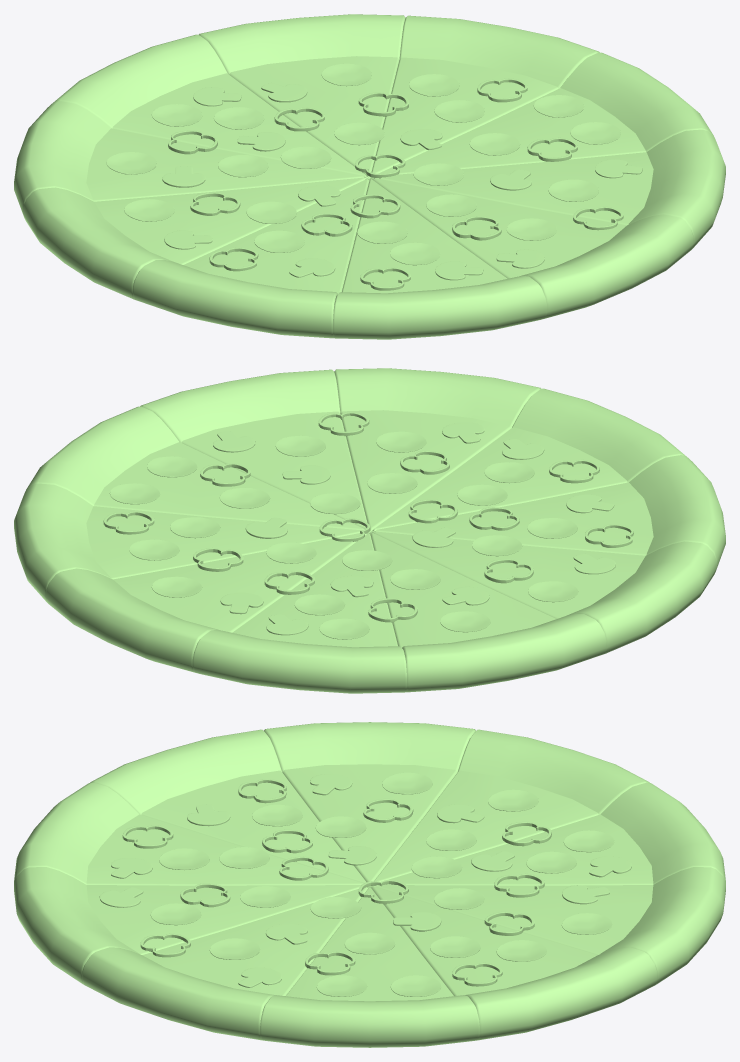
Rendered from Pizza.fbx.
3 views of the same model, one above another, from view 1: azimuth 30°, elevation 25°; view 2: azimuth 150°, elevation 25°; view 3: azimuth 270°, elevation 25° (orthographic).
Parts seen in each view (by area): view 1: pizza, pepperoni_6, pepperoni_9, pepperoni_16, pepperoni_2, pepperoni_10, pepperoni_21, pepperoni_5, pepperoni_1, pepperoni_8, pepperoni_11, pepperoni_17 (+29 smaller); view 2: pizza, pepperoni_7, pepperoni_8, pepperoni_20, pepperoni_2, pepperoni_5, pepperoni_13, pepperoni_19, pepperoni_1, pepperoni_3, pepperoni_17, pepperoni_11 (+26 smaller); view 3: pizza, pepperoni_1, pepperoni_21, pepperoni_16, pepperoni_14, pepperoni_19, pepperoni_6, pepperoni_3, pepperoni_2, pepperoni_12, pepperoni_15, pepperoni_17 (+29 smaller).
Boxes of the visible parts, <box> form: pizza: <box>14,14,725,339</box>; pepperoni_6: <box>434,100,484,122</box>; pepperoni_9: <box>413,163,463,185</box>; pepperoni_16: <box>124,199,174,221</box>; pepperoni_2: <box>506,218,556,240</box>; pepperoni_10: <box>548,179,598,201</box>; pepperoni_21: <box>280,146,331,168</box>; pepperoni_5: <box>409,74,459,96</box>; pepperoni_1: <box>469,133,520,155</box>; pepperoni_8: <box>570,122,620,144</box>; pepperoni_11: <box>426,194,476,216</box>; pepperoni_17: <box>106,152,156,174</box>; pizza: <box>14,368,725,693</box>; pepperoni_7: <box>109,483,160,504</box>; pepperoni_8: <box>147,456,197,477</box>; pepperoni_20: <box>294,594,344,615</box>; pepperoni_2: <box>376,431,426,452</box>; pepperoni_5: <box>129,539,179,560</box>; pepperoni_13: <box>457,484,507,505</box>; pepperoni_19: <box>319,618,369,639</box>; pepperoni_1: <box>220,487,270,508</box>; pepperoni_3: <box>266,542,316,563</box>; pepperoni_17: <box>440,611,490,632</box>; pepperoni_11: <box>367,473,417,493</box>; pizza: <box>14,722,725,1047</box>; pepperoni_1: <box>344,932,395,954</box>; pepperoni_21: <box>411,856,461,878</box>; pepperoni_16: <box>382,772,432,794</box>; pepperoni_14: <box>252,804,302,826</box>; pepperoni_19: <box>563,830,614,852</box>; pepperoni_6: <box>430,936,480,957</box>; pepperoni_3: <box>434,888,484,909</box>; pepperoni_2: <box>150,903,201,925</box>; pepperoni_12: <box>159,848,209,870</box>; pepperoni_15: <box>315,816,366,837</box>; pepperoni_17: <box>488,789,538,811</box>.
Bounding box in the file's own units: 0.6249 × 0.0381 × 0.6247.
